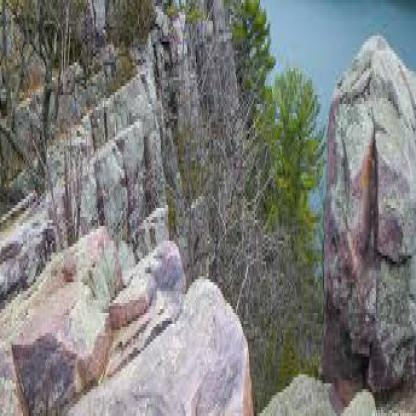Metamorphic_Quartize: (1, 247, 277, 413), (325, 21, 415, 398)
